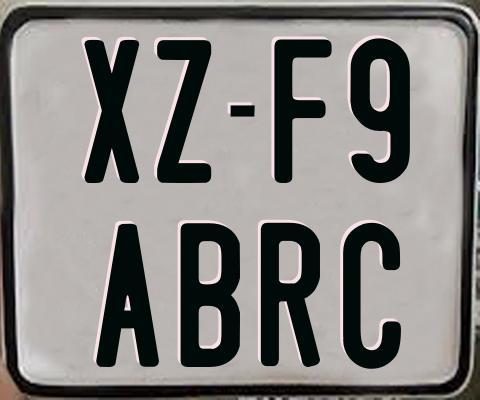9: (347, 37, 411, 182)
A: (96, 221, 165, 366)
B: (181, 220, 243, 370)
C: (342, 220, 400, 368)
F: (271, 38, 334, 183)
R: (258, 220, 321, 370)
X: (82, 38, 142, 182)
Z: (155, 39, 215, 188)
